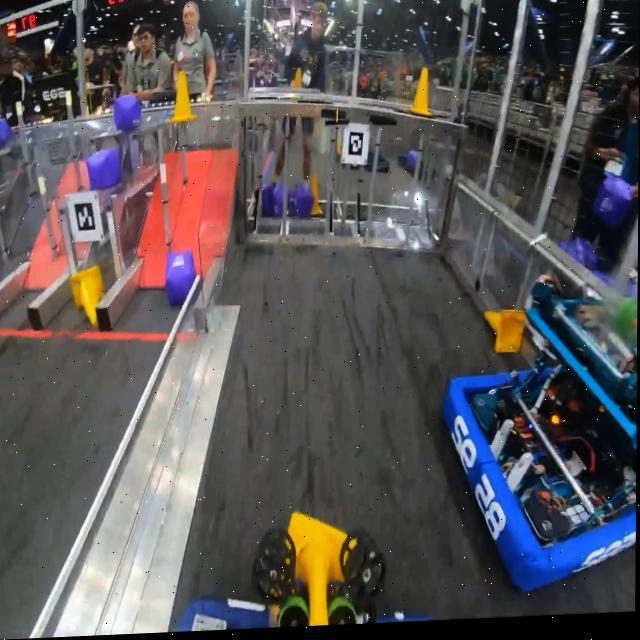robot: (438, 269, 638, 602)
